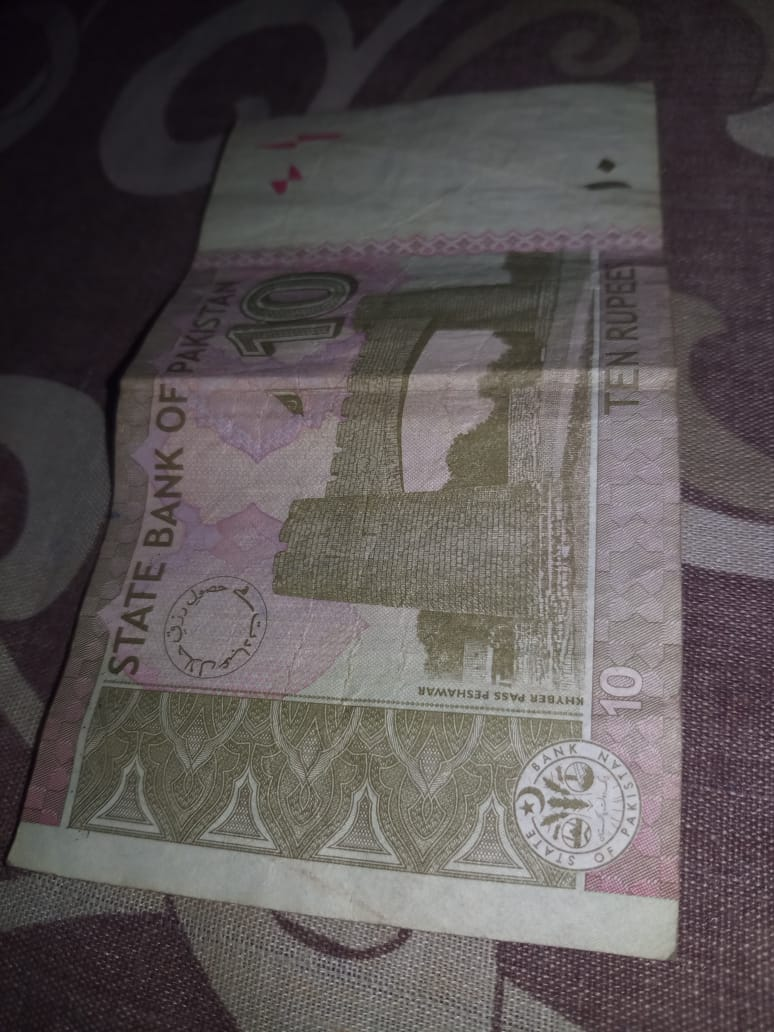10 rupee: (23, 70, 692, 949)
